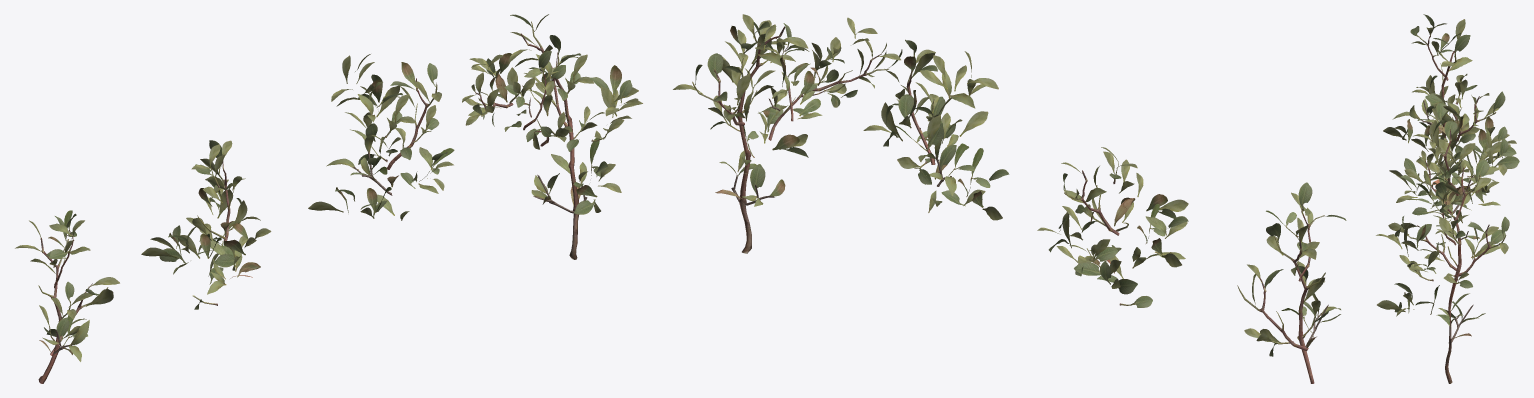
File: shrub_a.glb
3 views of the same model, side by side, from view 1: azimuth 30°, elevation 25°; view 2: azimuth 150°, elevation 25°; view 3: azimuth 270°, elevation 25° (orthographic). The views are drawn at different scales.
Visible parts, largest first — view 1: shrub_04; view 2: shrub_04; view 3: shrub_04.
Part boxes in pixels (<box>): shrub_04: <box>15,14,642,383</box>; shrub_04: <box>673,14,1346,383</box>; shrub_04: <box>1376,14,1519,383</box>.
Bounding box in the file's own units: 0.5761 × 0.2308 × 0.1416.
1 material, 1 textured.
